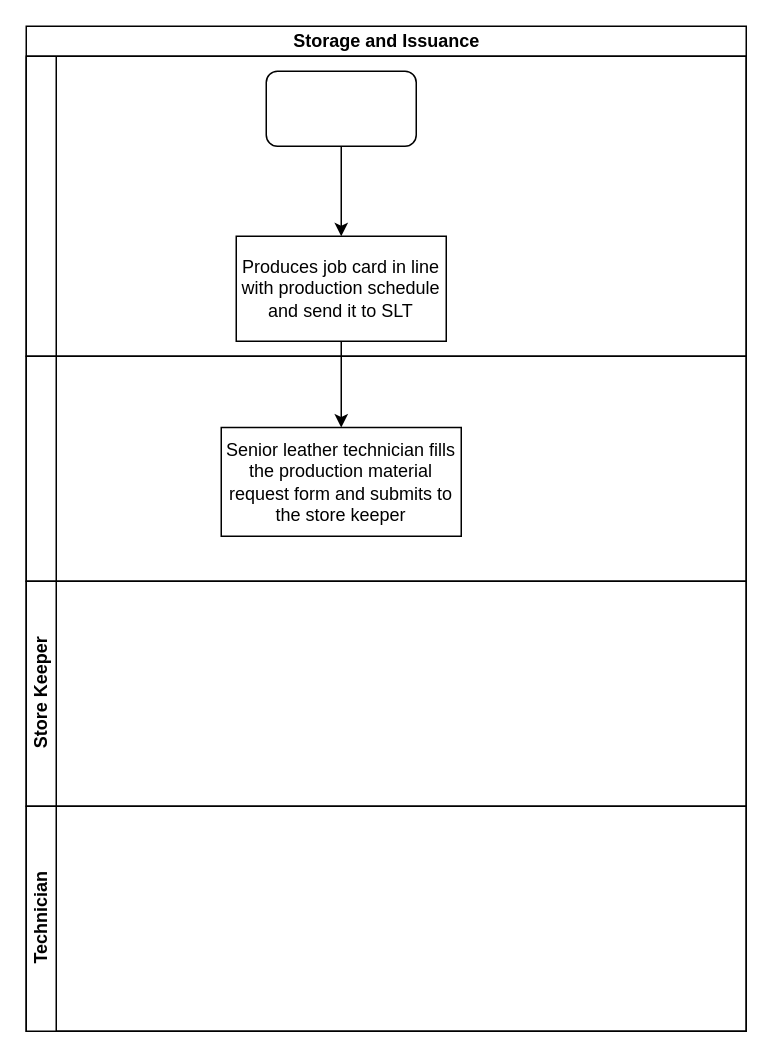
Some shapes in this 773 by 1058 pixel diagram are drawn without their labels. Here are the shapes that lost their labels. From the top down, the box of each, then its label:
(265, 70, 416, 146): Start
(25, 55, 746, 356): Centre Administrator
(25, 355, 746, 581): SLT
